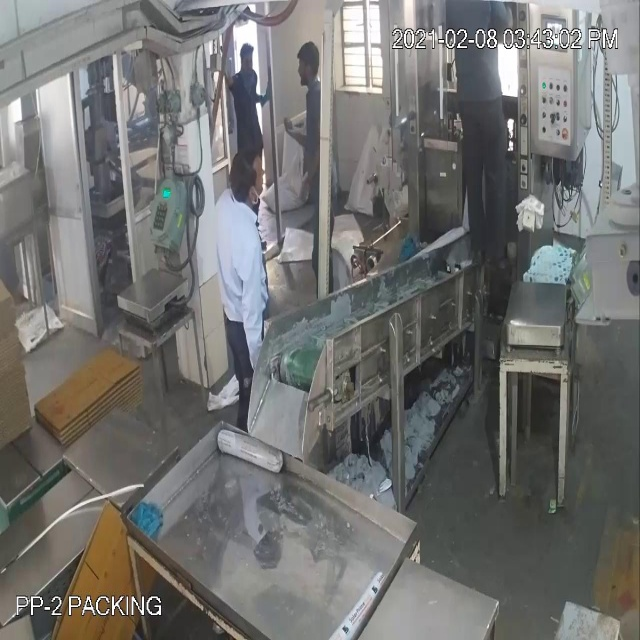Sin_guantes: (234, 231, 271, 381)
